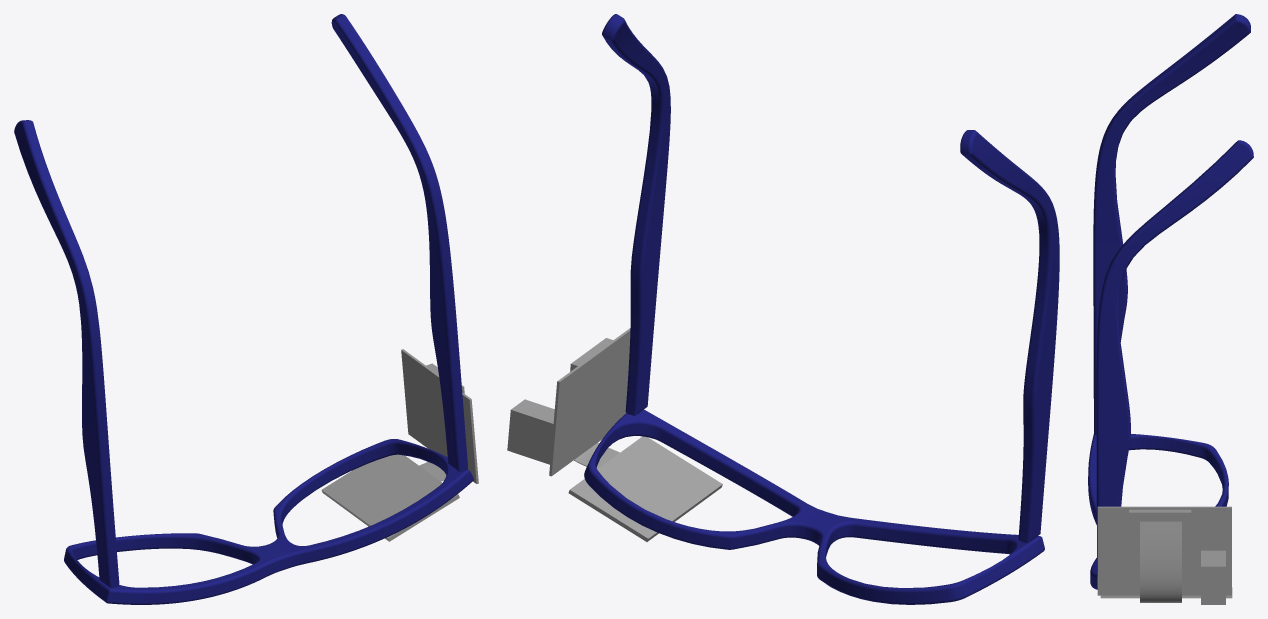
The model's file is TOLEDoFullDesign v1.obj.
3 renders of one model, left to right at view 1: azimuth 30°, elevation 25°; view 2: azimuth 150°, elevation 25°; view 3: azimuth 270°, elevation 25°, orthographic. The views are drawn at different scales.
Parts seen in each view (by area): view 1: Body1, Body3, Body2, TOLED, Board; view 2: Body1, Body3, Board, Body2, TOLED; view 3: Board, Body2, Body3, Body1, TOLED.
Boxes of the visible parts, left/top/right/bottom form: Body1: left=64, top=439, right=473, bottom=604; Body3: left=14, top=120, right=119, bottom=588; Body2: left=331, top=14, right=467, bottom=471; TOLED: left=321, top=454, right=459, bottom=541; Board: left=401, top=349, right=478, bottom=483; Body1: left=584, top=409, right=1044, bottom=604; Body3: left=960, top=130, right=1059, bottom=543; Board: left=507, top=328, right=630, bottom=476; Body2: left=602, top=14, right=670, bottom=415; TOLED: left=568, top=436, right=722, bottom=541; Board: left=1097, top=506, right=1231, bottom=604; Body2: left=1096, top=140, right=1253, bottom=573; Body3: left=1093, top=14, right=1250, bottom=434; Body1: left=1088, top=434, right=1228, bottom=589; TOLED: left=1100, top=587, right=1232, bottom=598.
Bounding box in the file's own units: 15.7 × 16.63 × 5.3.
